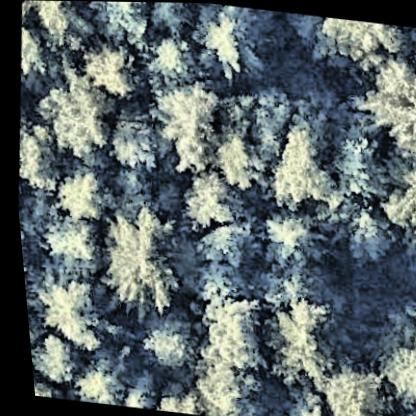tree-top: (83, 201, 188, 312), (205, 79, 299, 199), (240, 289, 346, 391), (251, 109, 342, 220), (141, 72, 225, 174), (27, 71, 119, 163), (180, 283, 269, 375), (25, 276, 114, 361), (188, 2, 279, 85), (298, 13, 416, 75), (348, 58, 416, 155), (174, 210, 256, 289), (328, 123, 396, 213), (96, 97, 173, 176), (126, 308, 208, 380), (169, 166, 244, 237), (29, 210, 105, 280), (365, 138, 416, 237), (9, 115, 68, 200), (41, 162, 112, 231), (305, 364, 384, 416), (246, 205, 320, 260), (82, 1, 153, 55), (367, 334, 416, 409), (75, 45, 137, 104), (331, 199, 396, 255), (142, 26, 202, 86), (178, 361, 243, 416), (21, 0, 94, 47), (23, 327, 73, 393), (264, 260, 324, 308), (64, 360, 120, 406), (149, 3, 196, 36), (265, 388, 318, 416), (107, 379, 147, 409), (25, 364, 54, 397), (393, 405, 416, 416)
